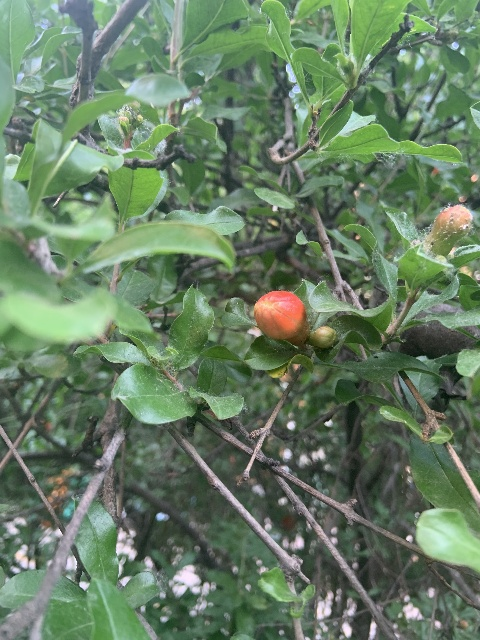bud: (254, 290, 309, 346), (426, 204, 472, 256), (311, 326, 337, 348)
